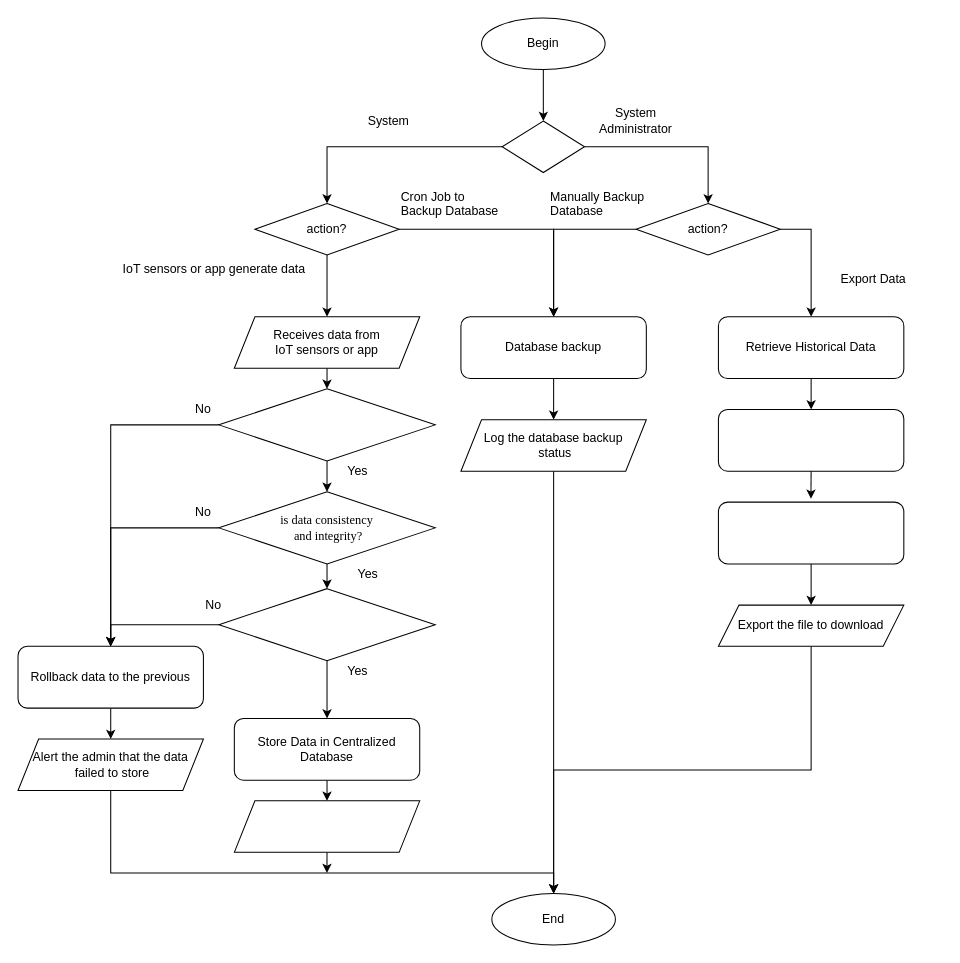
Some shapes in this 960 by 963 pixel diagram are drawn without their labels. The centre of each missing label's shape, as x and y in pixels:
"actor?" goes at (543,146).
"Generate File in Desired Format" goes at (810,532).
"is data authorised?" goes at (326,424).
"is it in compliance with data privacy?" goes at (326,624).
"Log the status" goes at (326,826).
"Retrieve Realtime Data" goes at (810,439).
